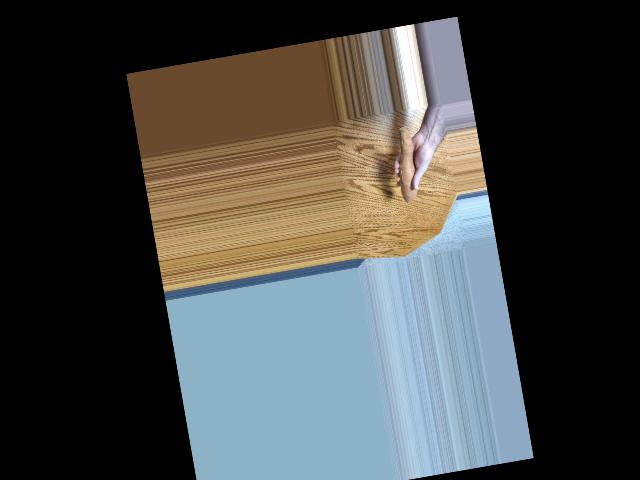sweet_potato: (390, 123, 427, 207)
